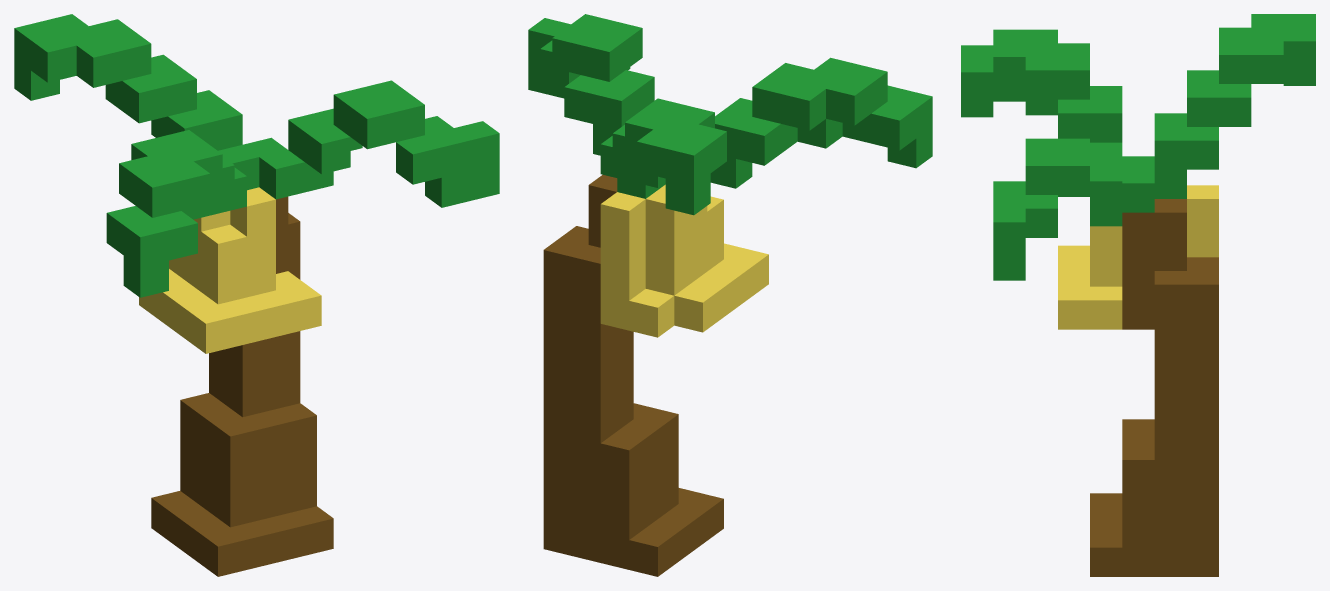
File: banana_tree.obj
3 renders of one model, left to right at view 1: azimuth 30°, elevation 25°; view 2: azimuth 150°, elevation 25°; view 3: azimuth 270°, elevation 25°, orthographic. The views are drawn at different scales.
Bounding box in the file's own units: 1.3 × 1.6 × 1.1.
Materials: 1 (1 with a texture image).
